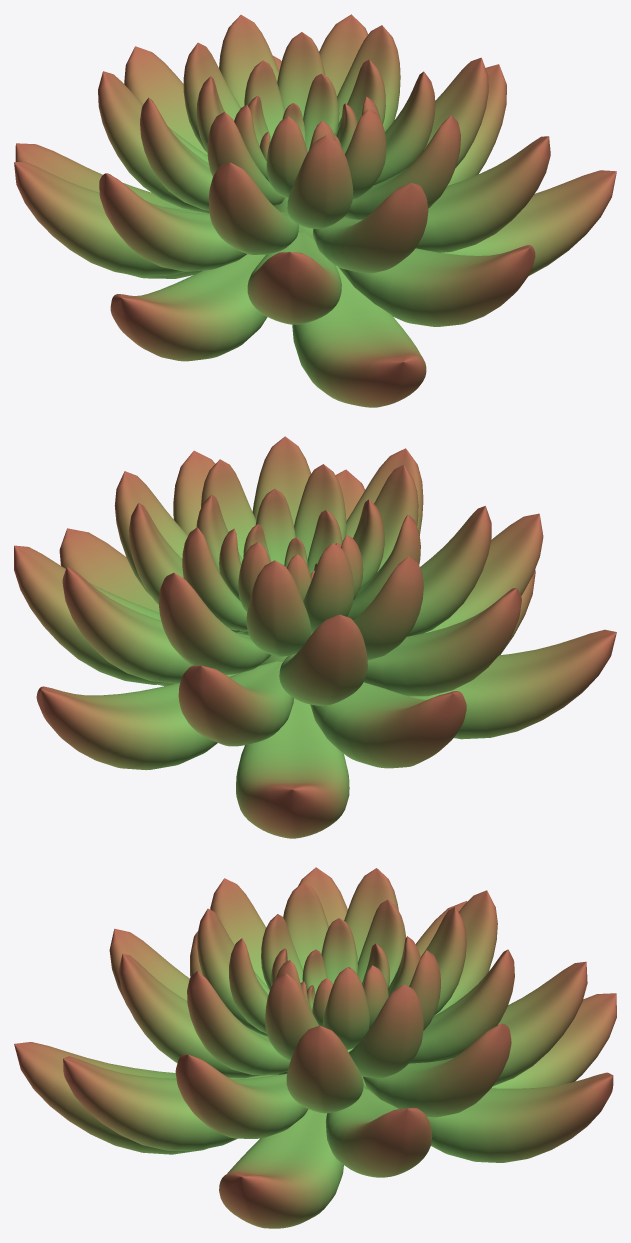
Rendered from lotus.fbx.
3 views of the same model, one above another, from view 1: azimuth 30°, elevation 25°; view 2: azimuth 150°, elevation 25°; view 3: azimuth 270°, elevation 25° (orthographic). The views are drawn at different scales.
Visible parts, largest first — view 1: Succulent.003; view 2: Succulent.003; view 3: Succulent.003.
Part boxes in pixels (x1=…): Succulent.003: x1=14, y1=14, x2=616, y2=407; Succulent.003: x1=14, y1=436, x2=616, y2=838; Succulent.003: x1=14, y1=867, x2=616, y2=1228.
Size of the model in its own units: 184 by 83.33 by 191.
1 material, 1 textured.
